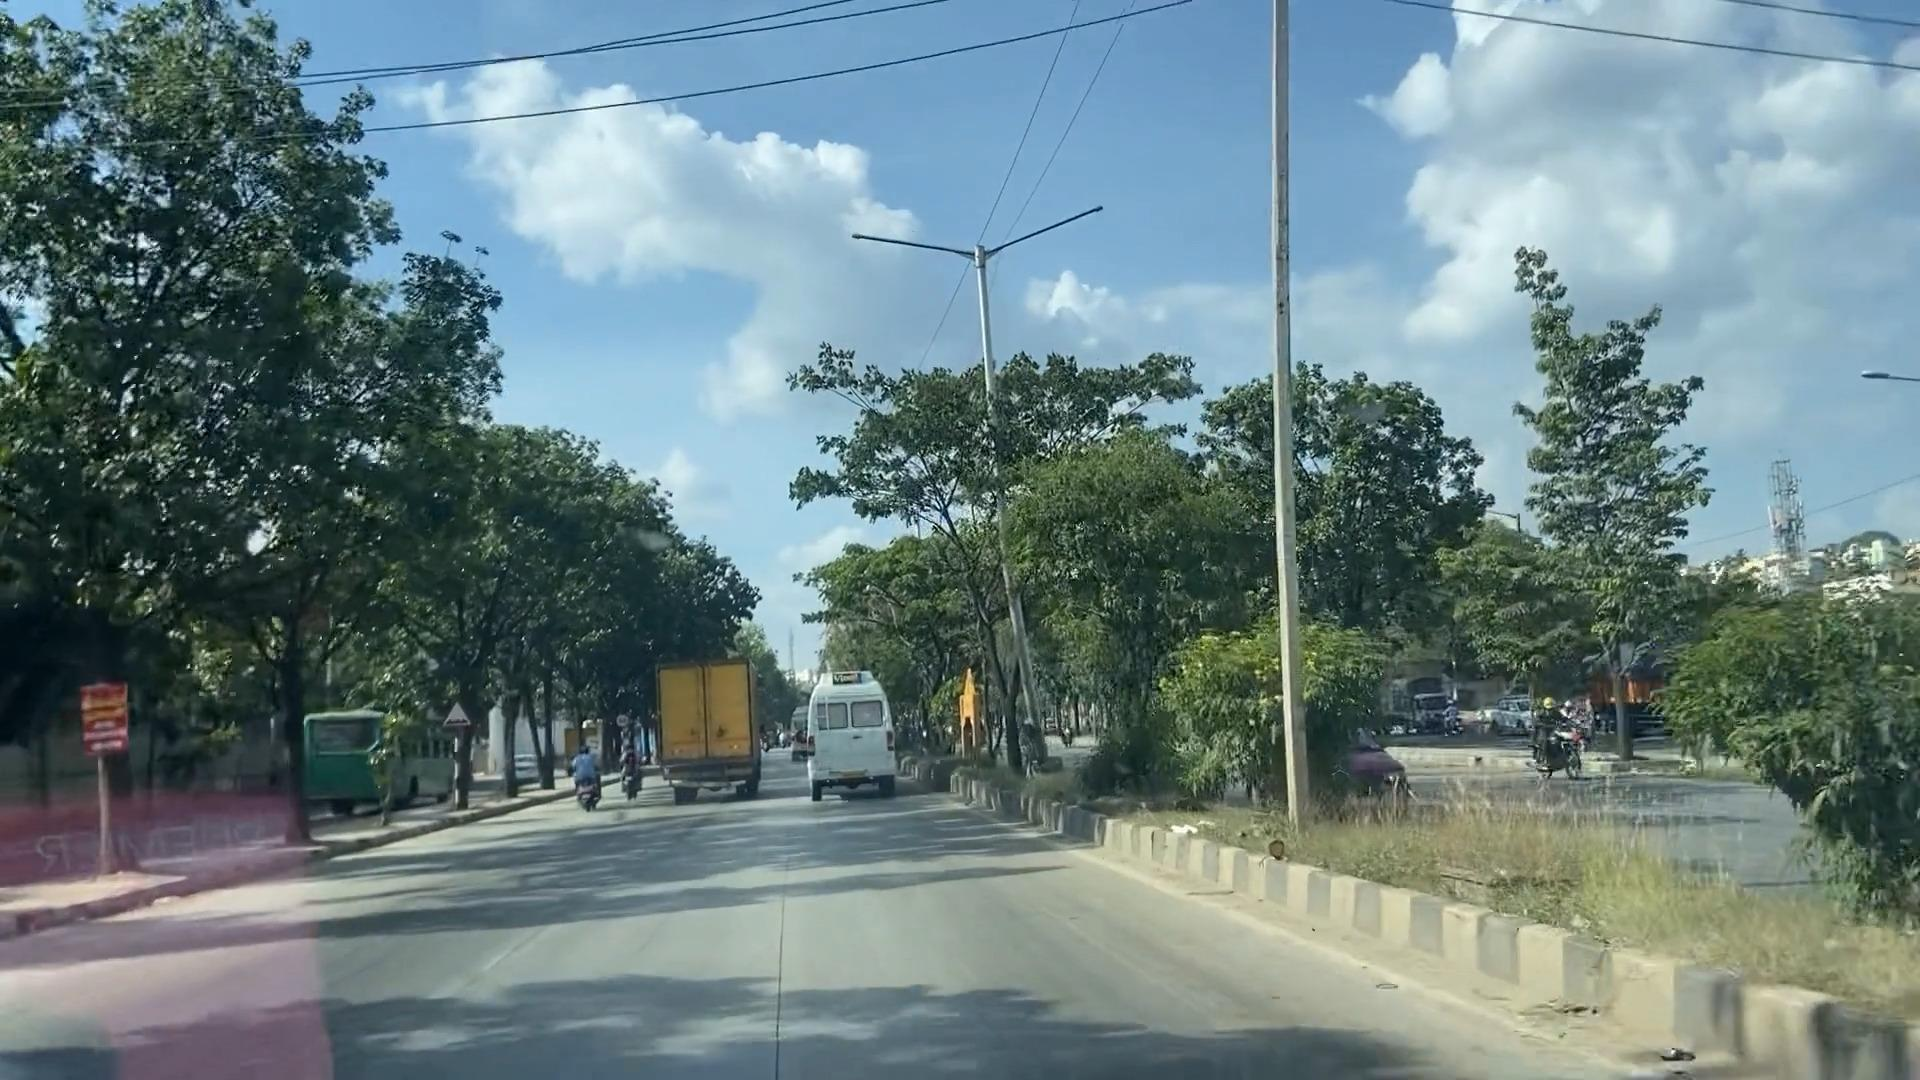HMV: (666, 662, 760, 800), (807, 667, 890, 802)
